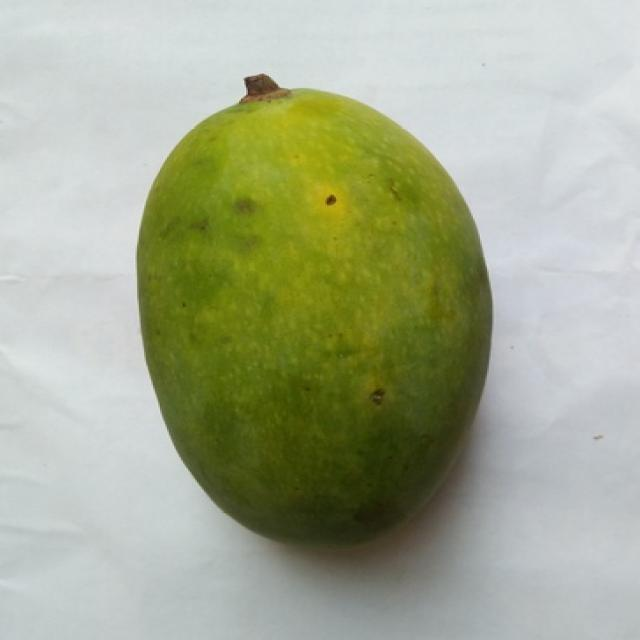Mango: (137, 76, 491, 544)
